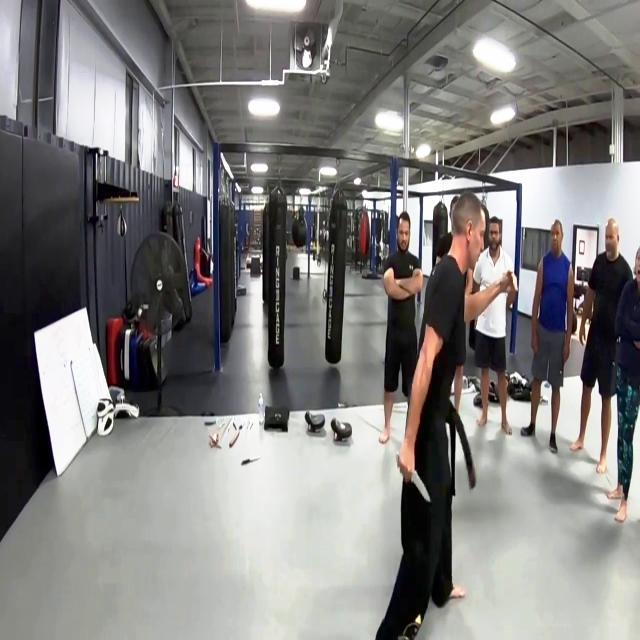Knife: (382, 444, 436, 507)
